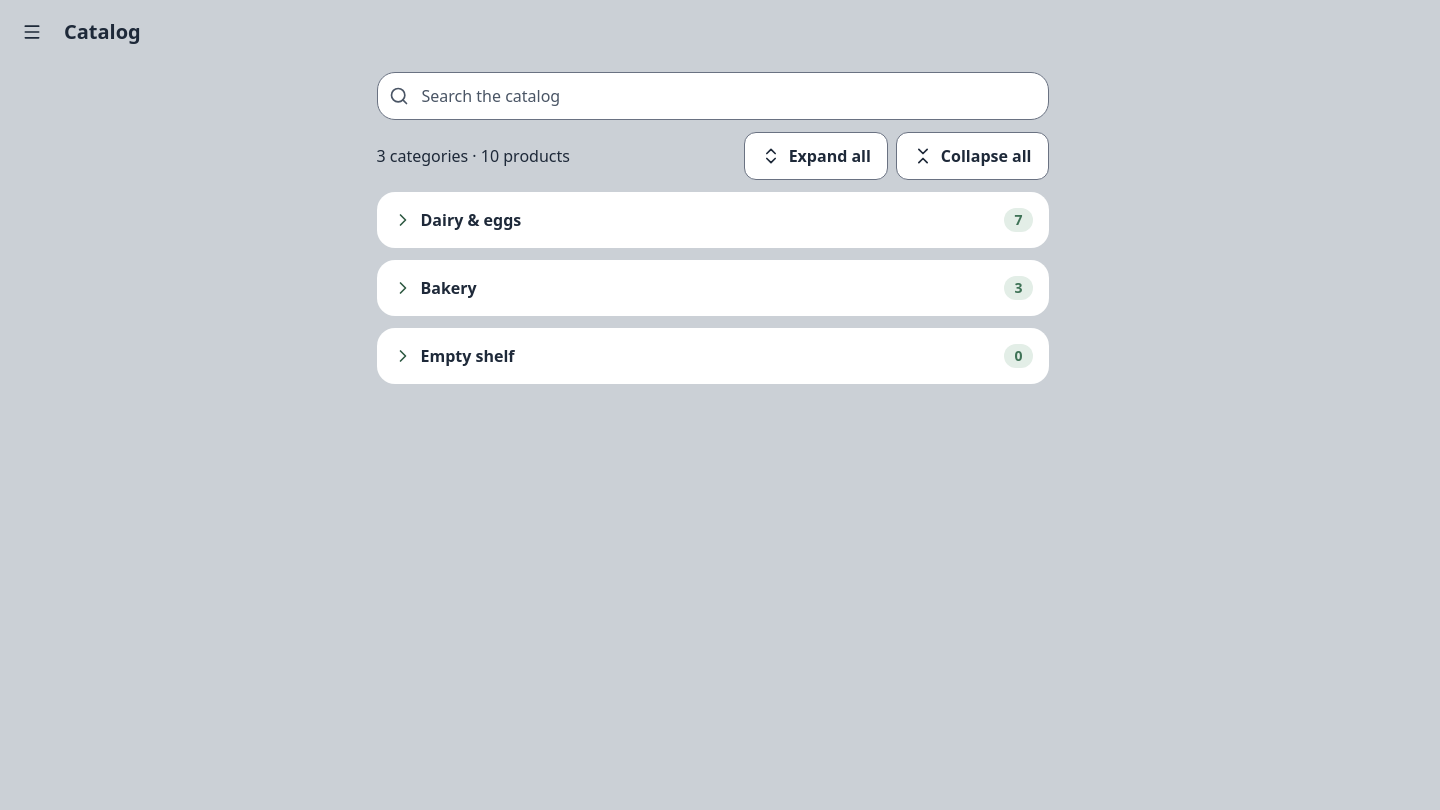
Test: CatalogPage › PRD-2.2: keeps a child open when its parent is closed and reopened
Click the button "Dairy & eggs 7" at (471, 220), box x1=376 y1=192 x2=1048 y2=248
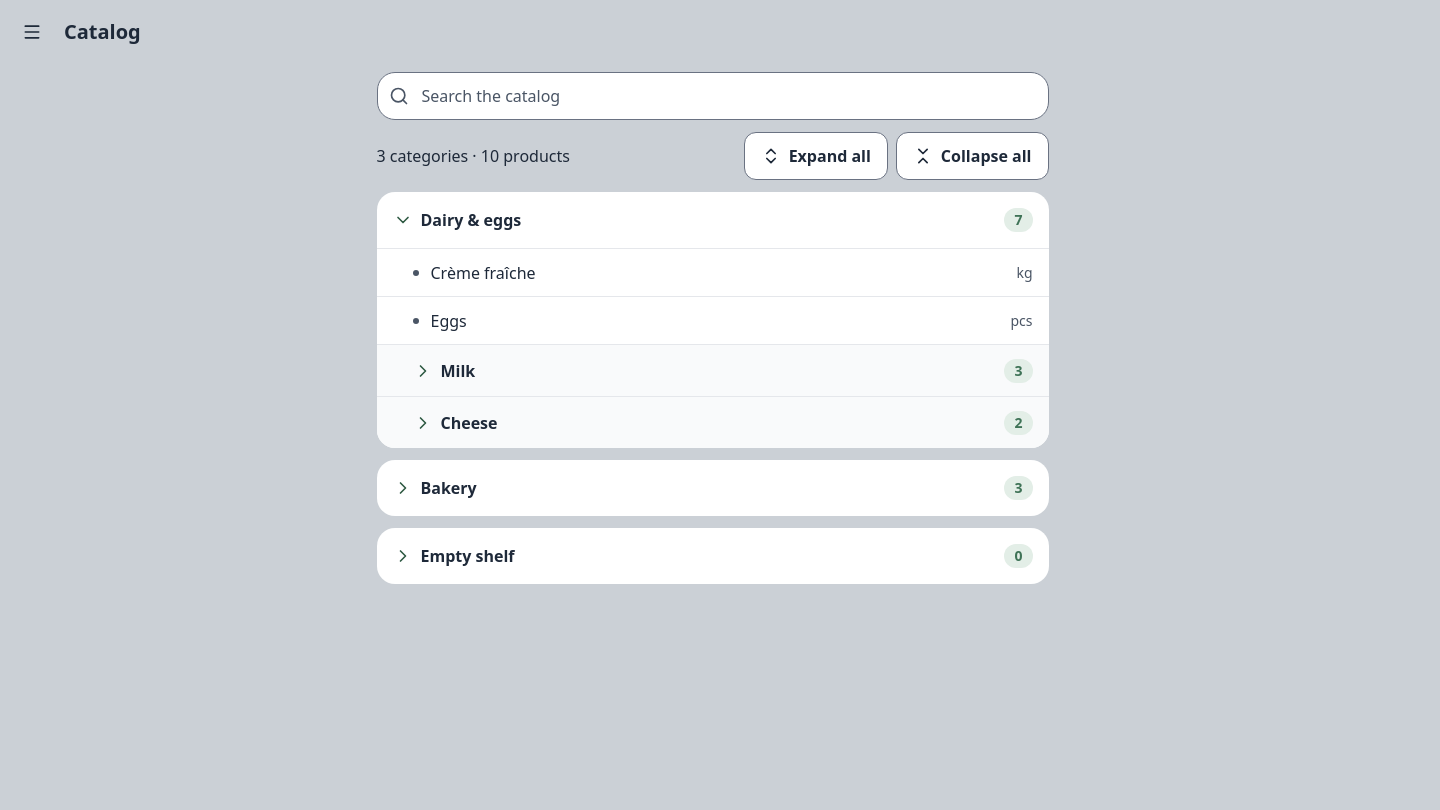
Click the button "Milk 3" at (458, 370), box x1=376 y1=344 x2=1048 y2=396
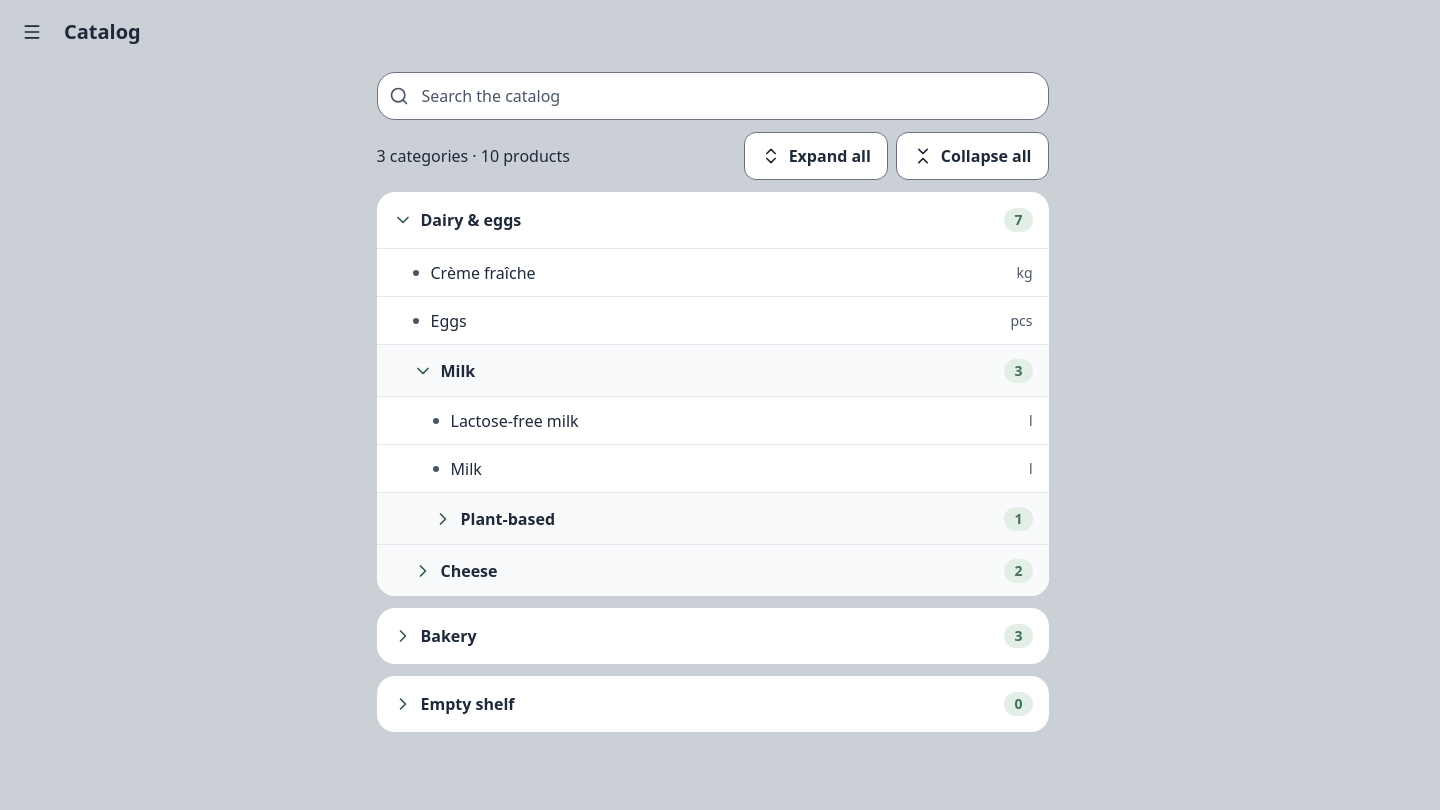
Click the button "Plant-based 1" at (508, 518), box x1=376 y1=492 x2=1048 y2=544
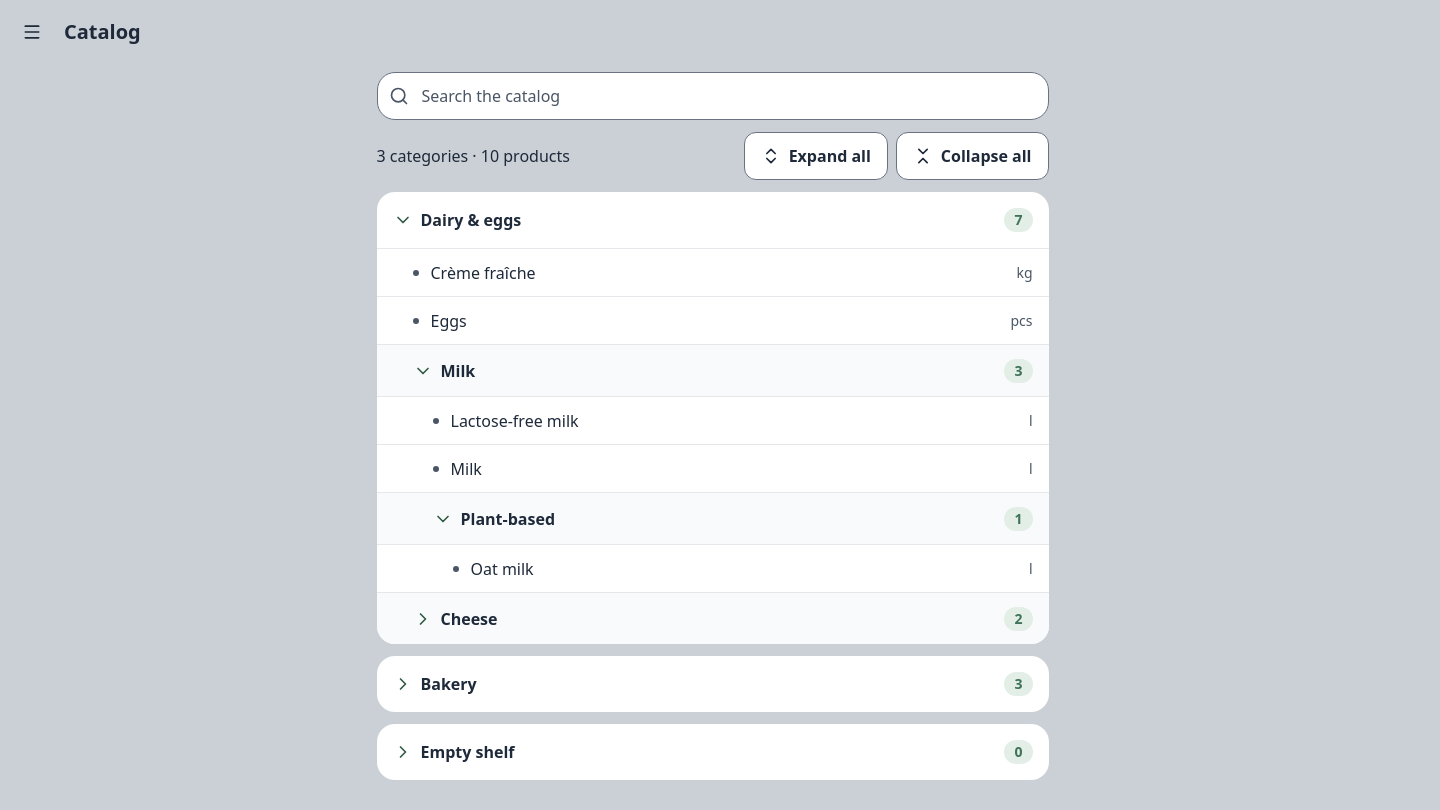
Now the text "Oat milk" is shown, box x1=470 y1=558 x2=534 y2=580
Click the button "Dairy & eggs 7" at (471, 220), box x1=376 y1=192 x2=1048 y2=248
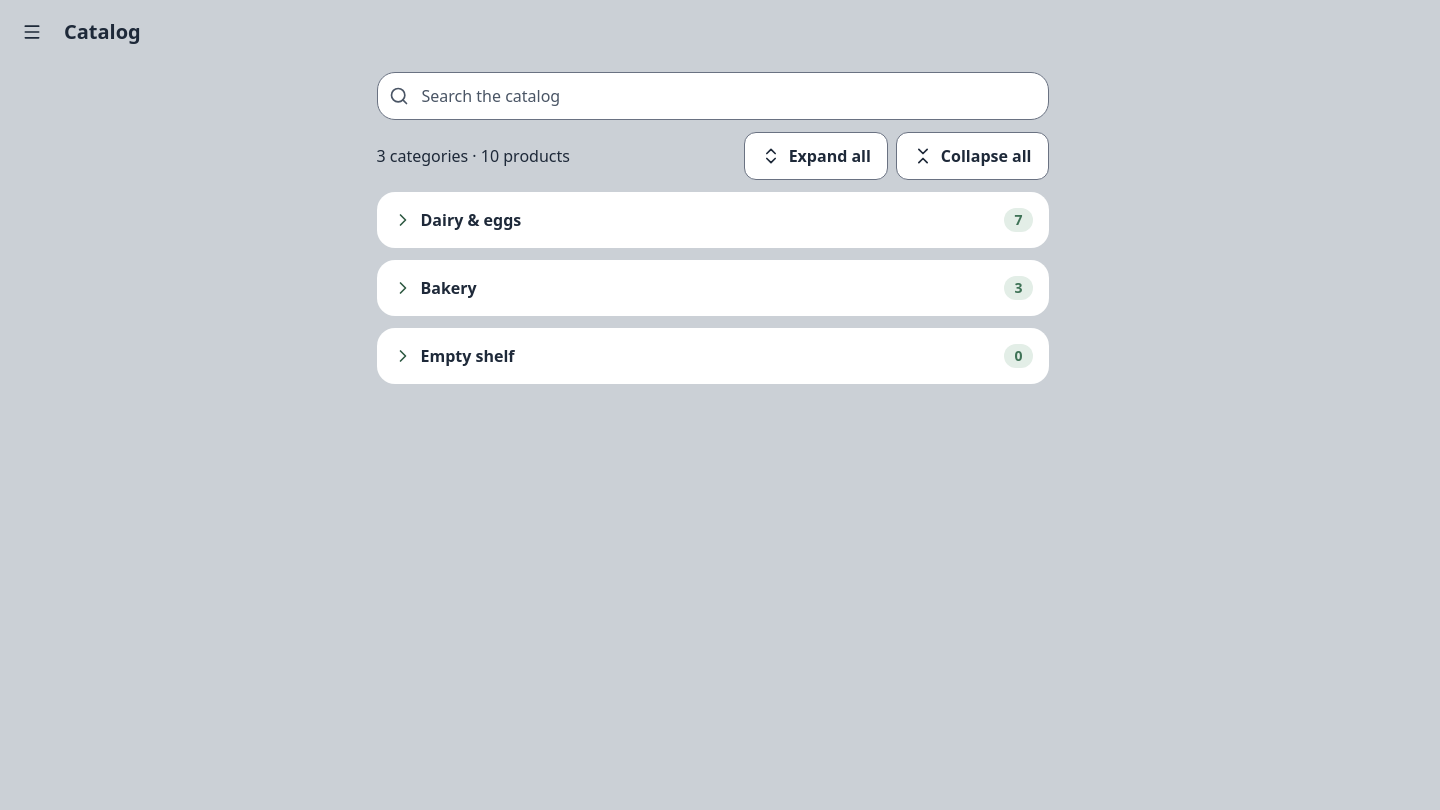
Now the text "Oat milk" is gone
Click the button "Dairy & eggs 7" at (471, 220), box x1=376 y1=192 x2=1048 y2=248
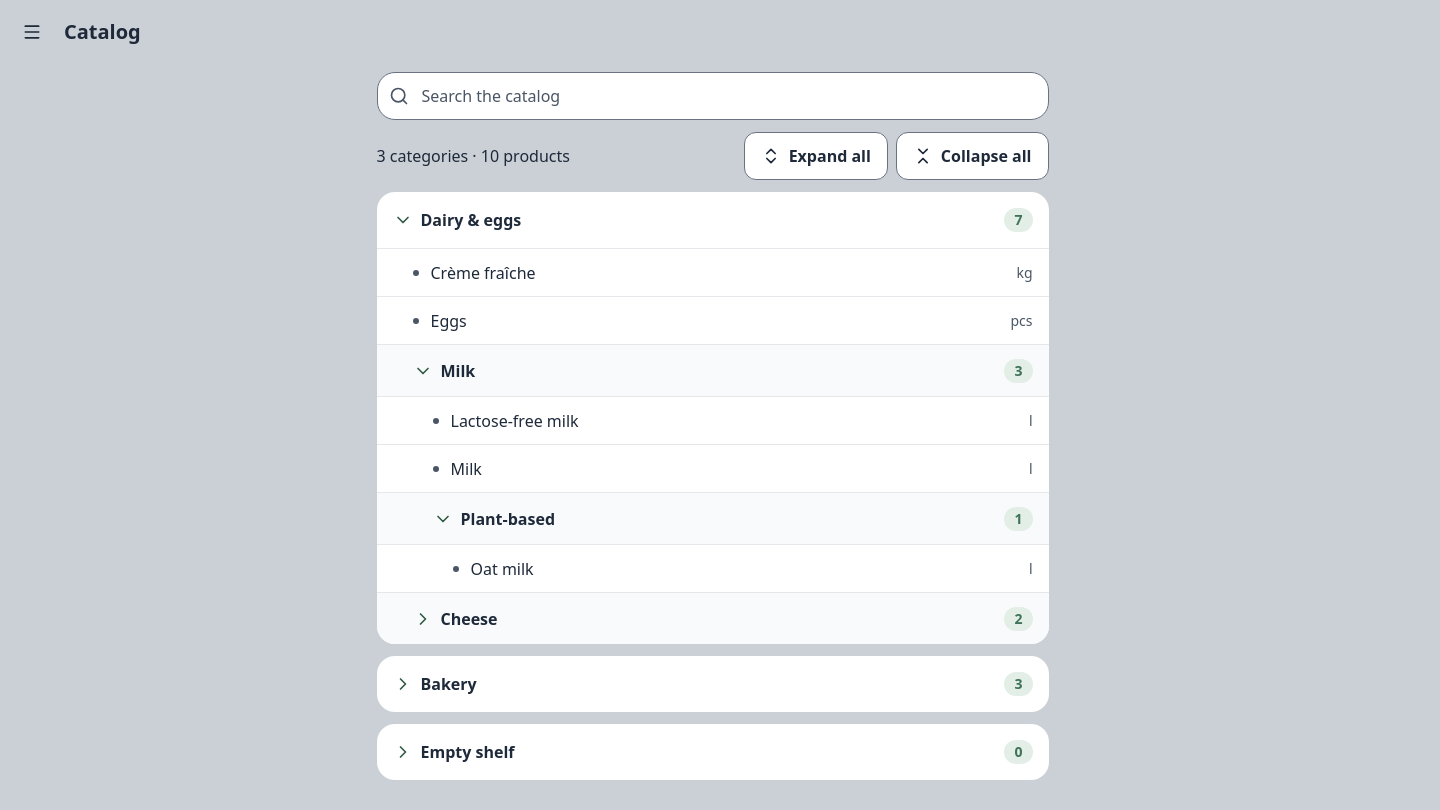
Now the text "Oat milk" is shown, box x1=470 y1=558 x2=534 y2=580
